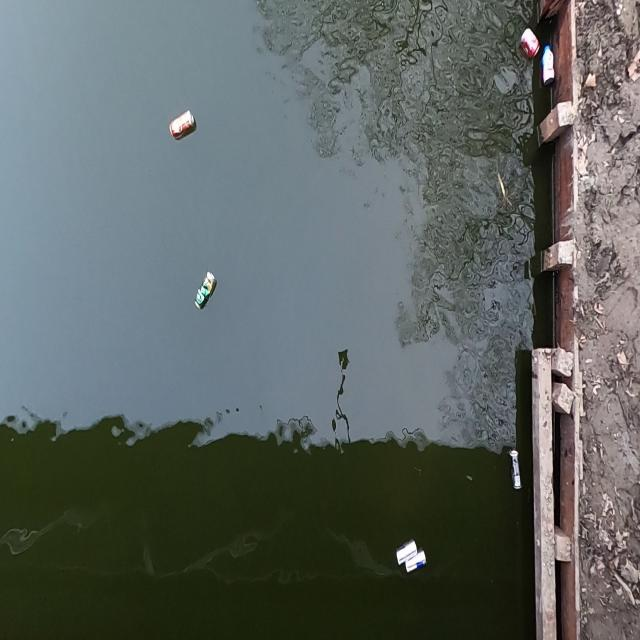Non plastique: (398, 543, 434, 590), (190, 263, 220, 318), (389, 532, 427, 573), (165, 102, 198, 145), (506, 441, 527, 502), (518, 26, 542, 65)
